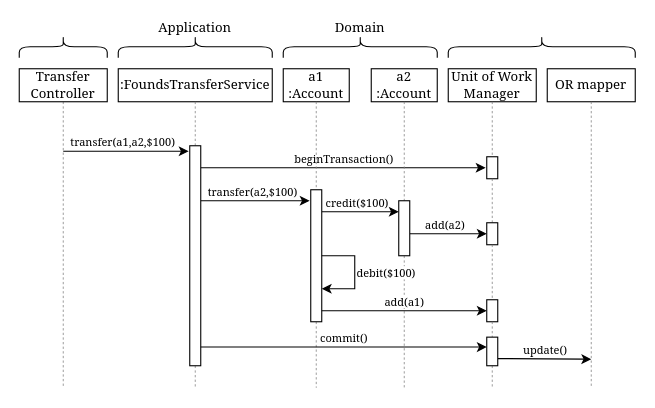
The diagram is 655 pixels wide and 408 high, and some of its shapes have lost their labels. The shapes that lost their labels are listed below. From the top down, each one's centre as x and y in pixels, then its label:
At [62,46]: "ＵＩ".
At [541,46]: "Infrastructure".
